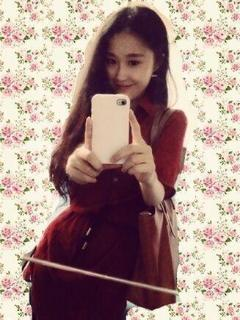long sleeve dress: (23, 95, 188, 319)
